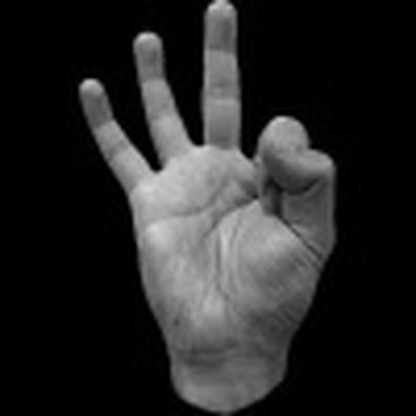f: (75, 1, 345, 360)
